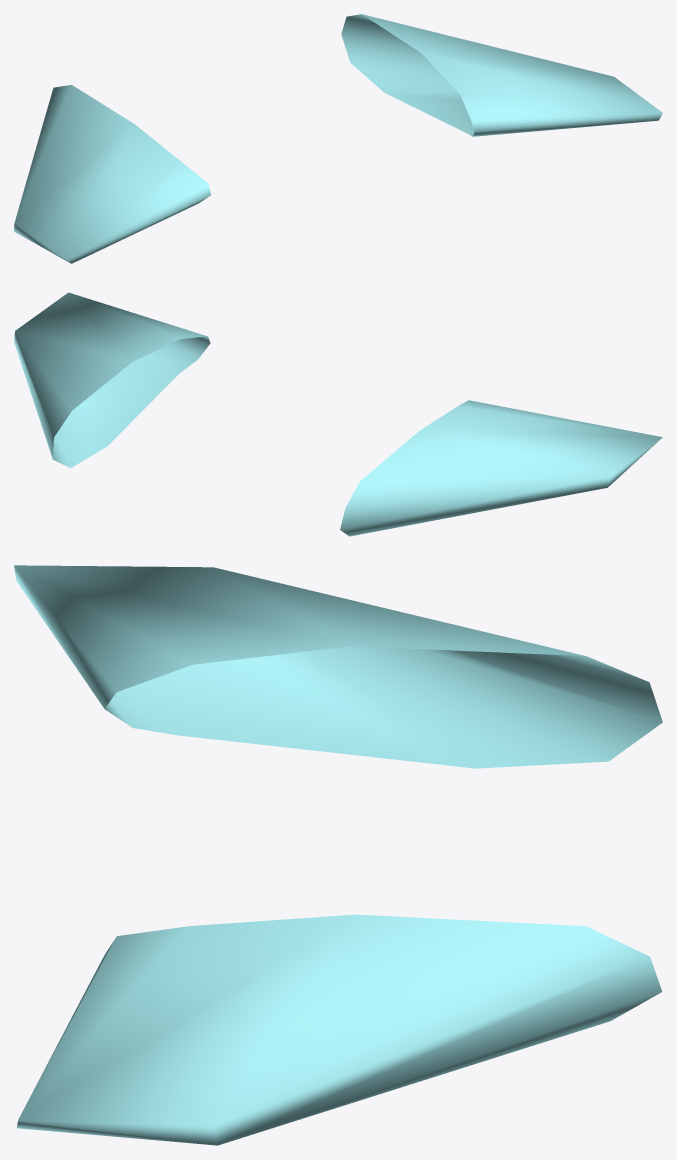
File: LowPolySpaceship.fbx
3 views of the same model, one above another, from view 1: azimuth 30°, elevation 25°; view 2: azimuth 150°, elevation 25°; view 3: azimuth 270°, elevation 25° (orthographic). The views are drawn at different scales.
Visible parts, largest first — view 1: Spaceship; view 2: Spaceship; view 3: Spaceship.
Boxes of the visible parts, x1=… form: Spaceship: x1=14, y1=14, x2=662, y2=263; Spaceship: x1=14, y1=292, x2=662, y2=536; Spaceship: x1=14, y1=565, x2=662, y2=1145.
Bounding box in the file's own units: 1266 × 124 × 621.
